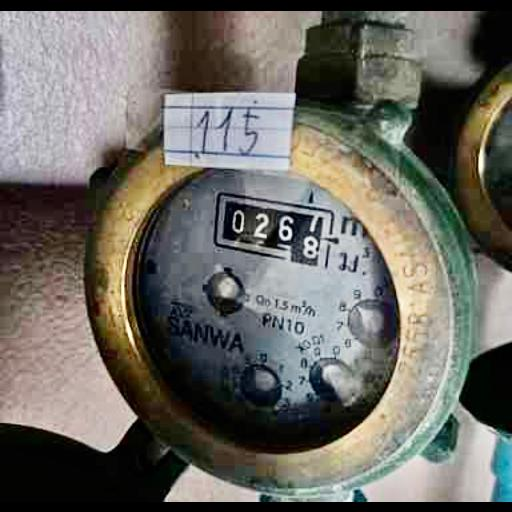0: (221, 199, 251, 241)
2: (247, 204, 276, 246)
6: (271, 209, 297, 252)
8: (290, 212, 328, 267)
border_water_meter_number: (207, 190, 337, 269)
